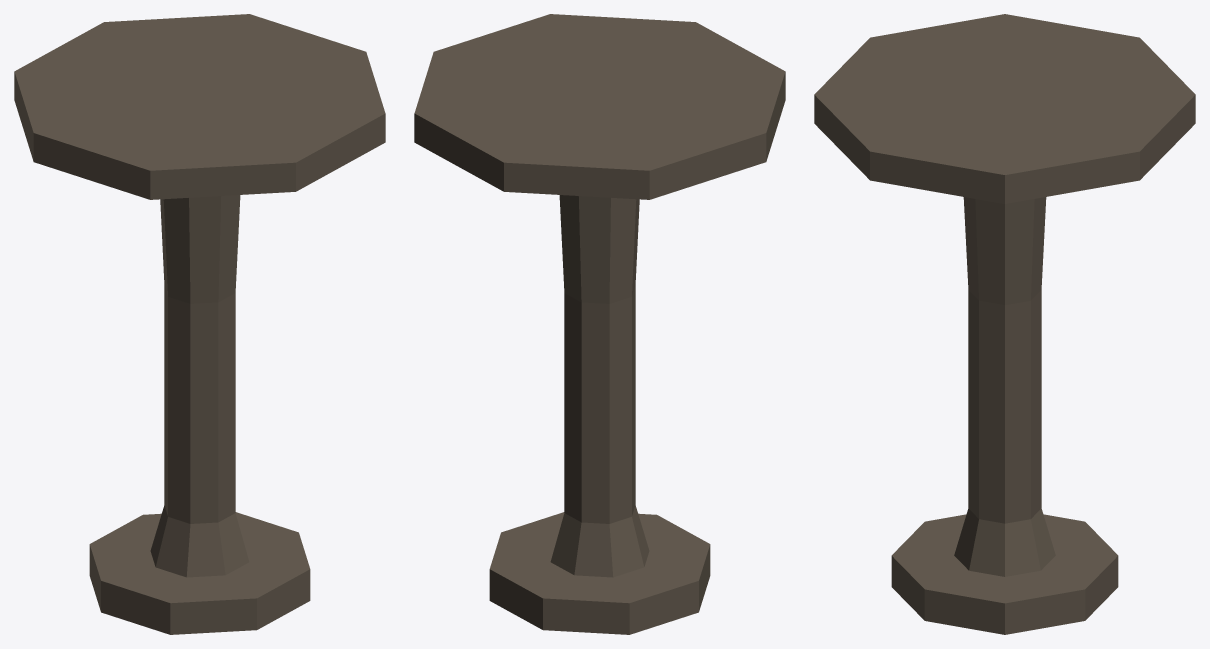
The model's file is Stool.fbx.
The picture shows the model from 3 angles, left to right: view 1: azimuth 30°, elevation 25°; view 2: azimuth 150°, elevation 25°; view 3: azimuth 270°, elevation 25°; orthographic projection.
Parts seen in each view (by area): view 1: Stool; view 2: Stool; view 3: Stool.
Part boxes in pixels (box(x1,y1,x2,y2)): Stool: box(14, 14, 385, 634); Stool: box(414, 14, 785, 634); Stool: box(814, 14, 1195, 634).
Bounding box in the file's own units: 60.11 × 85.64 × 60.11.
